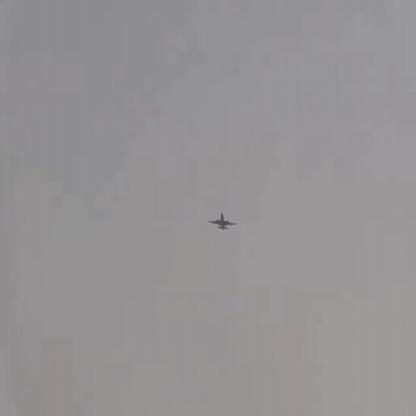CIV_Plane: (207, 212, 238, 229)
